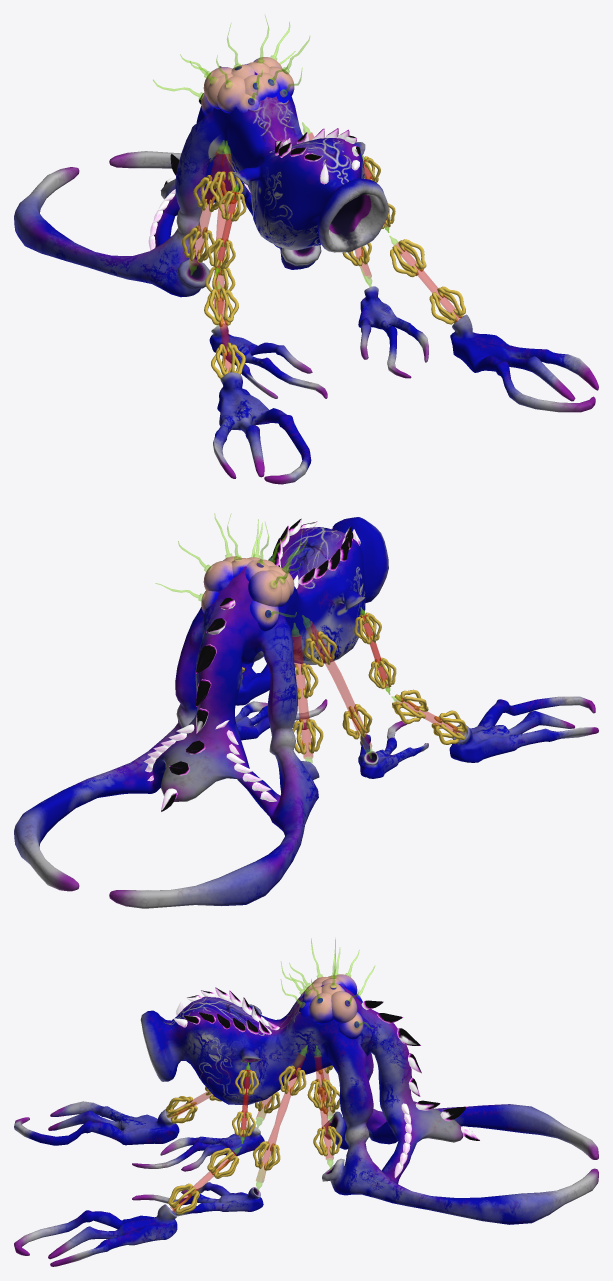
File: Sibuxiang_forThreeJSPortfolio.glb
3 renders of one model, top to bottom at view 1: azimuth 30°, elevation 25°; view 2: azimuth 150°, elevation 25°; view 3: azimuth 270°, elevation 25°, orthographic. The views are drawn at different scales.
Parts seen in each view (by area): view 1: Sibuxiang_Body; view 2: Sibuxiang_Body; view 3: Sibuxiang_Body.
Part boxes in pixels (box(x1,y1,x2,y2)): Sibuxiang_Body: box(14, 15, 598, 484); Sibuxiang_Body: box(14, 513, 598, 908); Sibuxiang_Body: box(14, 938, 598, 1266).
Size of the model in its own units: 58.58 by 44.86 by 94.89.
Materials: 6 (4 with a texture image).
